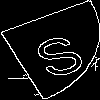S: (25, 25, 90, 81)
